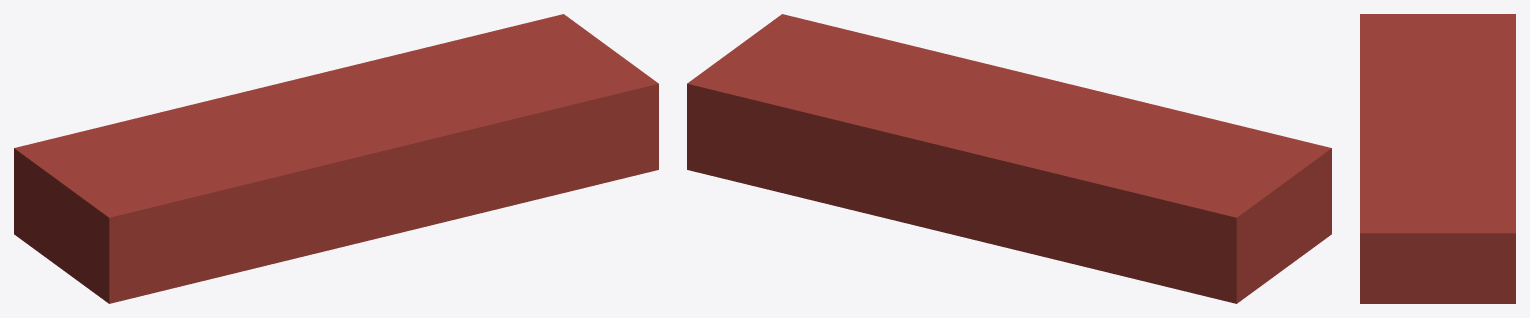
Rendered from road_gapL.fbx.
3 renders of one model, left to right at view 1: azimuth 30°, elevation 25°; view 2: azimuth 150°, elevation 25°; view 3: azimuth 270°, elevation 25°, orthographic. The views are drawn at different scales.
Parts seen in each view (by area): view 1: road_gapL; view 2: road_gapL; view 3: road_gapL.
Boxes of the visible parts, x1,y1,x2,y2 form: road_gapL: (14,14,658,303); road_gapL: (687,14,1331,303); road_gapL: (1360,14,1515,303).
Bounding box in the file's own units: 667 × 99.85 × 200.
